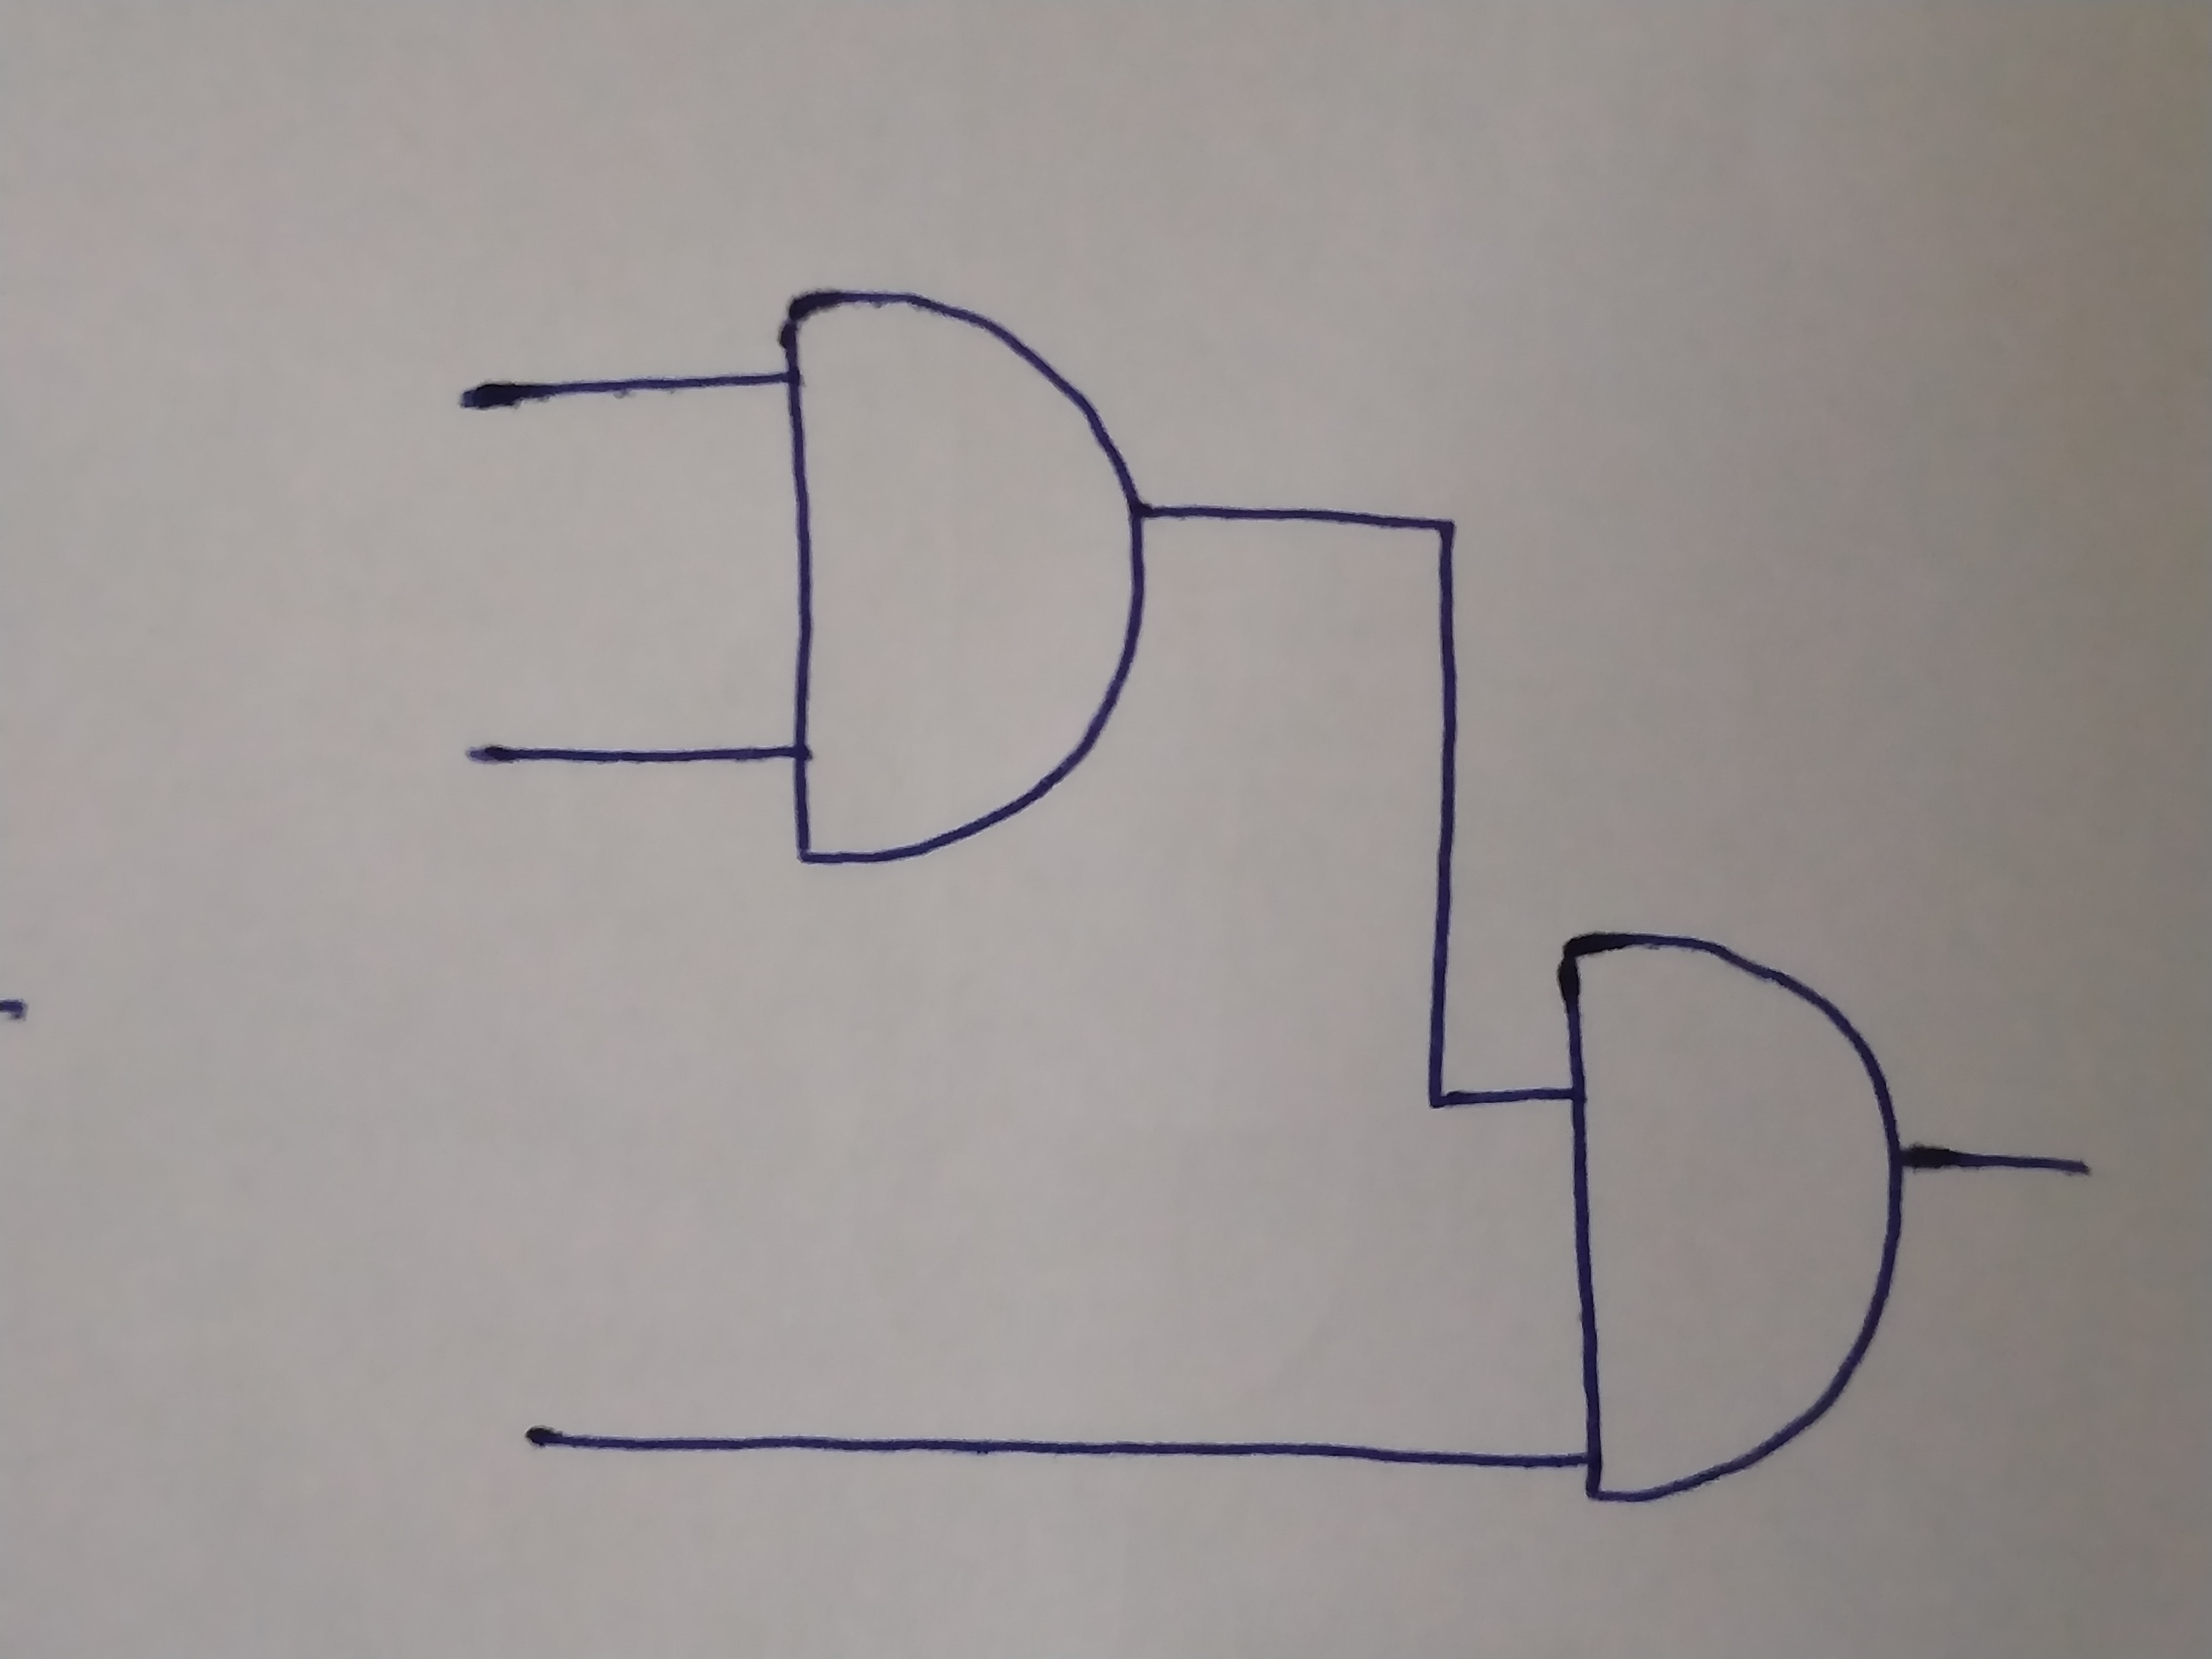and: (773, 296, 1143, 861), (1561, 927, 1895, 1500)
